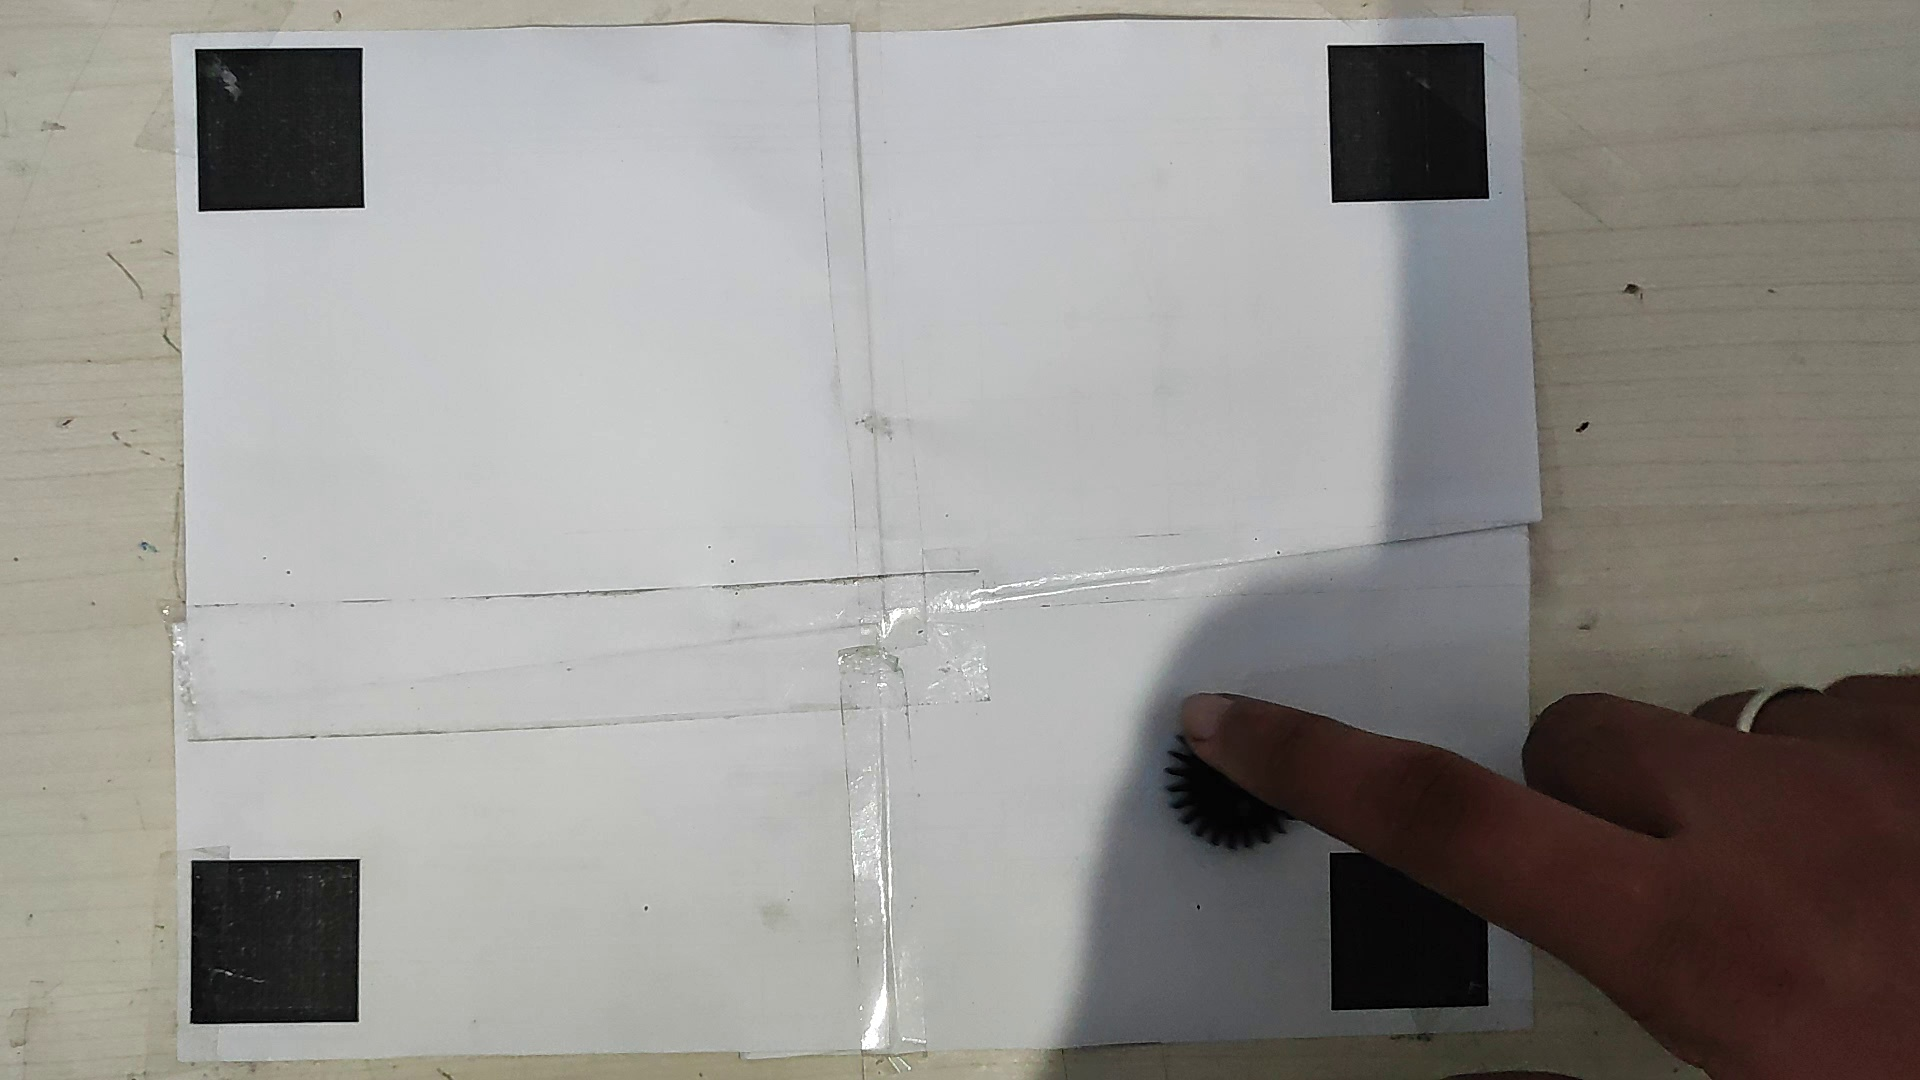Gear: (1151, 703, 1304, 857)
